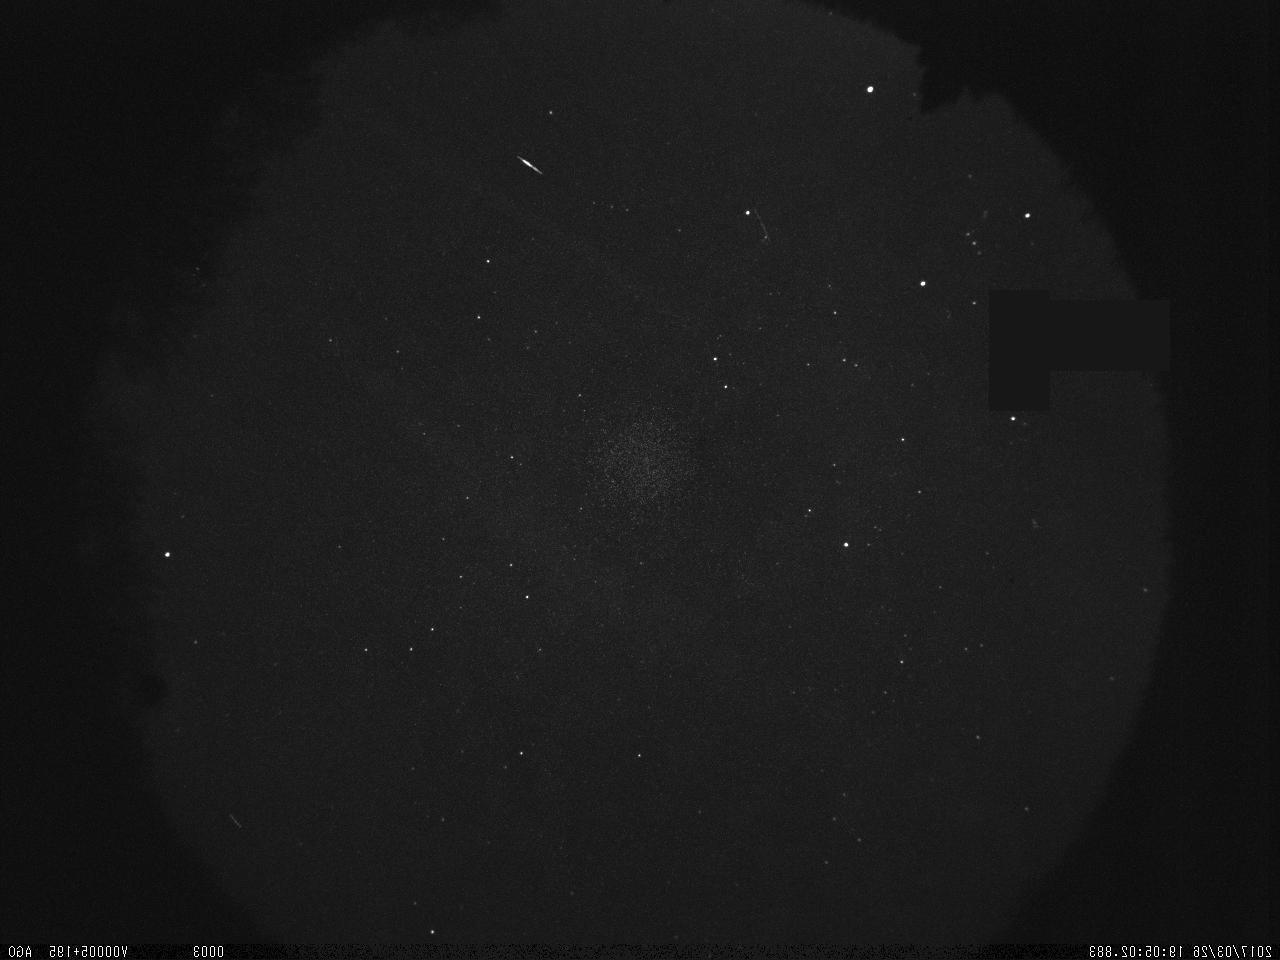meteor: (509, 152, 549, 180)
